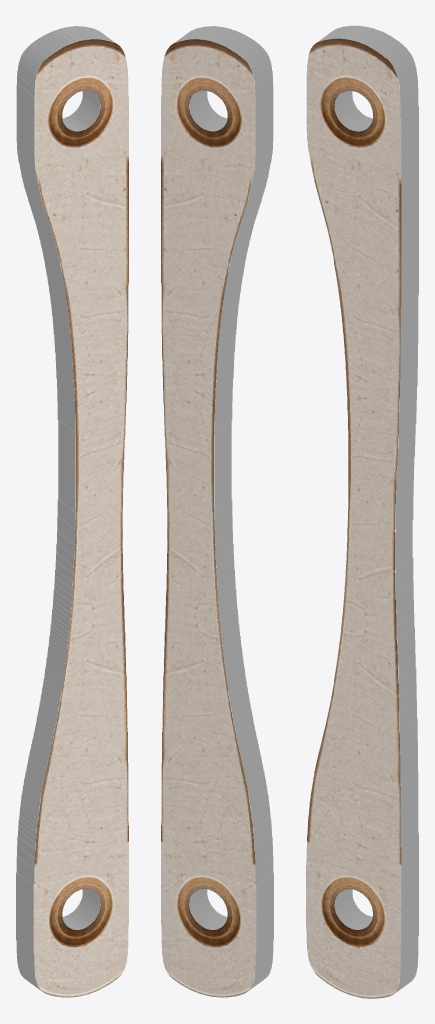
File: UpperLeg.glb
3 views of the same model, side by side, from view 1: azimuth 30°, elevation 25°; view 2: azimuth 150°, elevation 25°; view 3: azimuth 330°, elevation 25° (orthographic).
Visible parts, largest first — view 1: PaperVolume; view 2: PaperVolume; view 3: PaperVolume.
Part boxes in pixels (x1,y1,x2,y2): PaperVolume: (16, 26, 128, 997); PaperVolume: (161, 26, 273, 997); PaperVolume: (306, 25, 418, 998).
Bounding box in the file's own units: 0.2586 × 2.4 × 0.08.
Materials: 3 (2 with a texture image).
